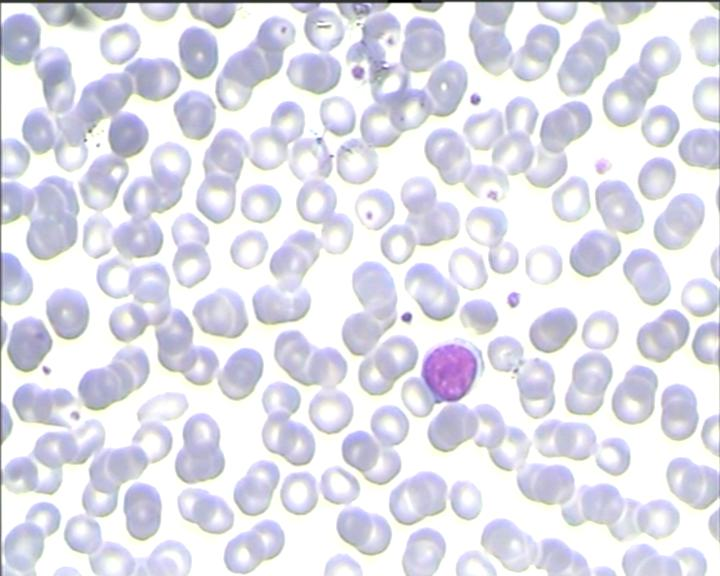lymp: (420, 335, 491, 404)
